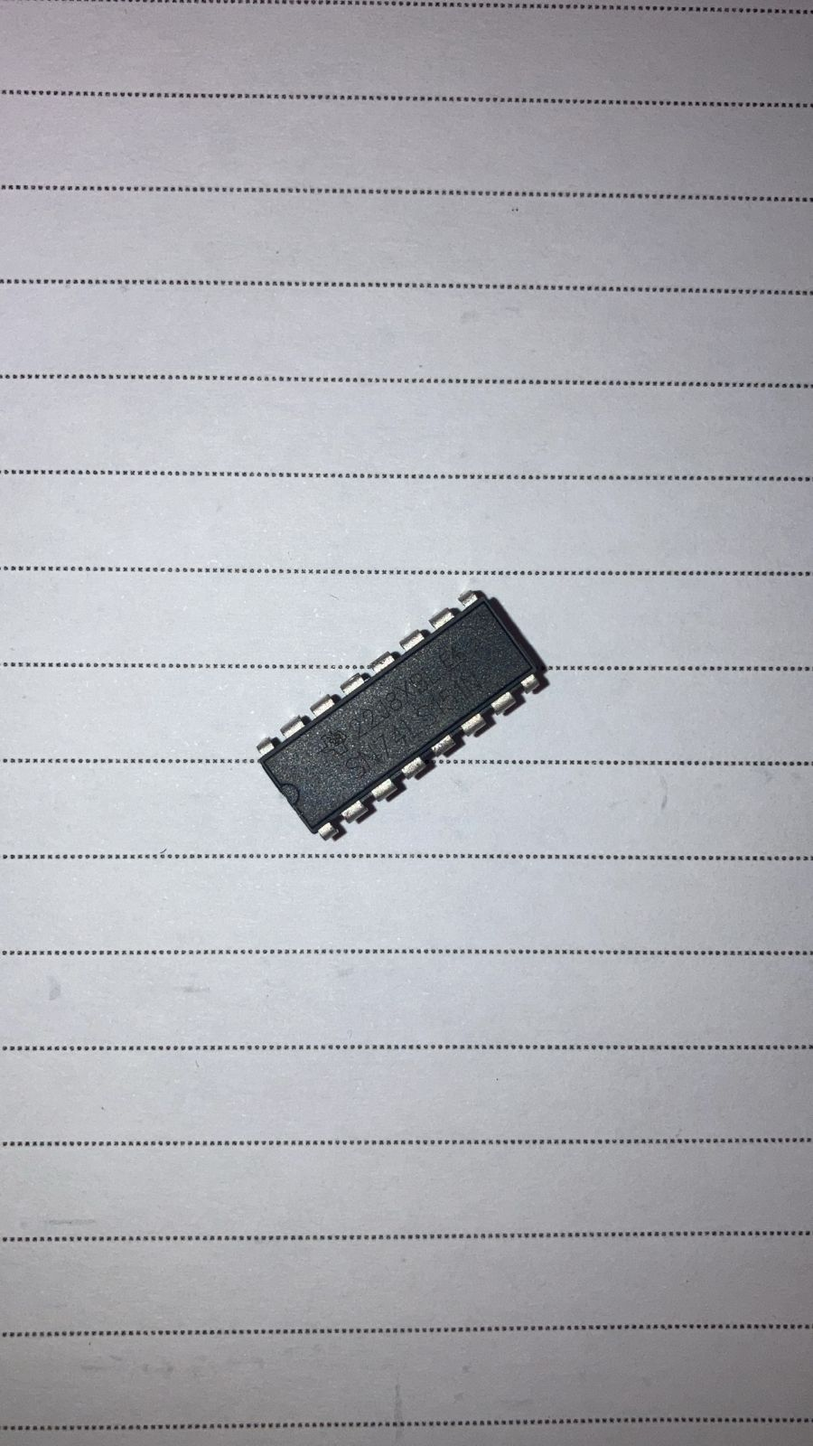IC: (244, 578, 554, 857)
notch: (277, 779, 303, 806)
